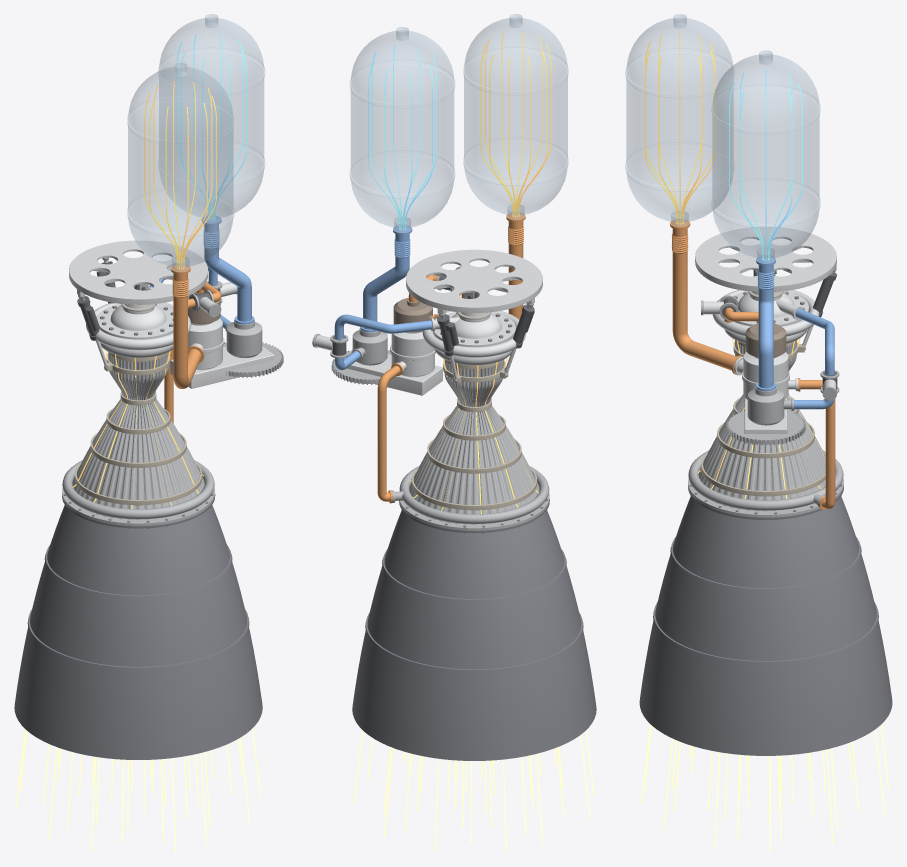
File: expander_d.glb
3 renders of one model, left to right at view 1: azimuth 30°, elevation 25°; view 2: azimuth 150°, elevation 25°; view 3: azimuth 270°, elevation 25°, orthographic. The views are drawn at different scales.
Parts seen in each view (by area): view 1: EX_NozzleExtension, EX_TankFuel, EX_TankOxidizer, EX_TubeWall, EX_ThrustMount, EX_FLOW_HotGas, EX_FLOW_Fuel, EX_ChamberBands, EX_FeedLineFuel, EX_FuelManifold, EX_FLOW_Oxidizer, EX_OxidizerDome (+9 smaller); view 2: EX_NozzleExtension, EX_TankFuel, EX_TankOxidizer, EX_TubeWall, EX_ThrustMount, EX_FLOW_Fuel, EX_FLOW_HotGas, EX_ChamberBands, EX_FLOW_Oxidizer, EX_FuelManifold, EX_OxidizerDome, EX_FeedLineOxidizer (+12 smaller); view 3: EX_NozzleExtension, EX_TankOxidizer, EX_TankFuel, EX_TubeWall, EX_ThrustMount, EX_FLOW_HotGas, EX_FeedLineFuel, EX_FLOW_Fuel, EX_FeedLineOxidizer, EX_FuelManifold, EX_FLOW_Oxidizer, EX_ChamberBands (+11 smaller).
Boxes of the visible parts, <box> form: EX_NozzleExtension: <box>14,494,262,759</box>; EX_TankFuel: <box>127,63,233,271</box>; EX_TankOxidizer: <box>158,14,264,222</box>; EX_TubeWall: <box>62,353,214,526</box>; EX_ThrustMount: <box>69,240,207,304</box>; EX_FLOW_HotGas: <box>15,728,261,852</box>; EX_FLOW_Fuel: <box>72,81,216,508</box>; EX_ChamberBands: <box>75,352,202,505</box>; EX_FeedLineFuel: <box>171,264,204,388</box>; EX_FuelManifold: <box>62,460,214,519</box>; EX_FLOW_Oxidizer: <box>176,32,246,220</box>; EX_OxidizerDome: <box>96,287,173,339</box>; EX_NozzleExtension: <box>352,499,596,760</box>; EX_TankFuel: <box>463,14,568,219</box>; EX_TankOxidizer: <box>350,27,454,232</box>; EX_TubeWall: <box>399,360,549,530</box>; EX_ThrustMount: <box>406,249,542,314</box>; EX_FLOW_Fuel: <box>410,32,551,513</box>; EX_FLOW_HotGas: <box>353,730,594,852</box>; EX_ChamberBands: <box>411,359,536,510</box>; EX_FLOW_Oxidizer: <box>368,45,437,230</box>; EX_FuelManifold: <box>391,466,549,524</box>; EX_OxidizerDome: <box>430,312,515,346</box>; EX_FeedLineOxidizer: <box>360,225,412,332</box>; EX_NozzleExtension: <box>639,486,892,755</box>; EX_TankOxidizer: <box>711,50,820,263</box>; EX_TankFuel: <box>625,14,734,226</box>; EX_TubeWall: <box>688,341,843,517</box>; EX_ThrustMount: <box>695,226,836,291</box>; EX_FLOW_HotGas: <box>640,724,889,852</box>; EX_FeedLineFuel: <box>670,219,743,375</box>; EX_FLOW_Fuel: <box>645,32,825,498</box>; EX_FeedLineOxidizer: <box>756,256,775,391</box>; EX_FuelManifold: <box>688,450,843,510</box>; EX_FLOW_Oxidizer: <box>729,69,803,261</box>; EX_ChamberBands: <box>701,340,825,496</box>.
Size of the model in its own units: 1.35 by 4.02 by 1.24.
